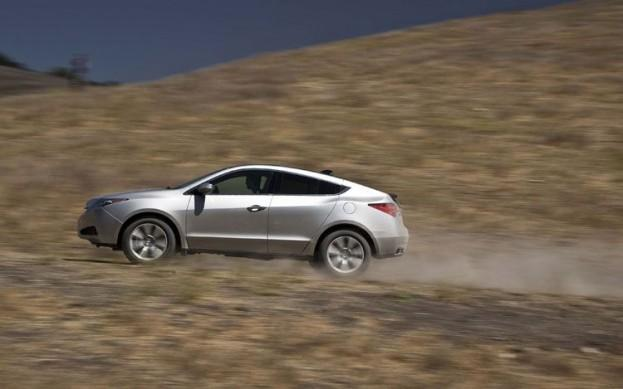Hatchback: (76, 163, 409, 278)
